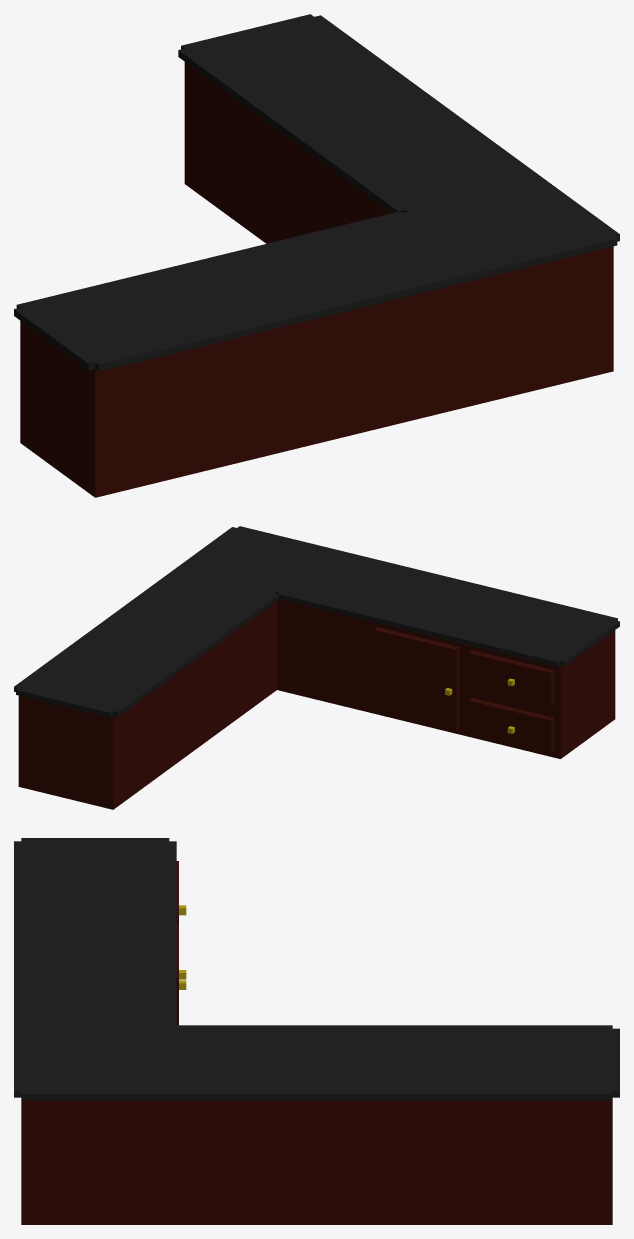
The model's file is Kitchen Counter.fbx.
The picture shows the model from 3 angles, top to bottom: view 1: azimuth 30°, elevation 25°; view 2: azimuth 150°, elevation 25°; view 3: azimuth 270°, elevation 25°; orthographic projection. The views are drawn at different scales.
Visible parts, largest first — view 1: Kitchen Counter; view 2: Kitchen Counter; view 3: Kitchen Counter.
Boxes of the visible parts, x1,y1,x2,y2 form: Kitchen Counter: (14, 14, 619, 497); Kitchen Counter: (14, 526, 619, 809); Kitchen Counter: (14, 838, 619, 1224).
Size of the model in its own units: 2.46 by 0.6 by 2.46.
